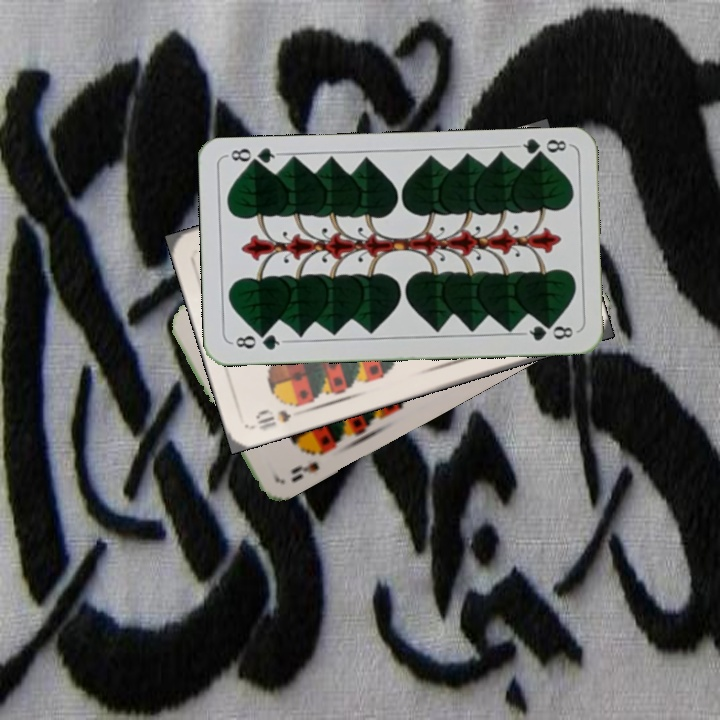G8: (512, 135, 569, 162), (228, 329, 287, 353)
S10: (251, 405, 294, 433)
S9: (287, 442, 331, 485)
